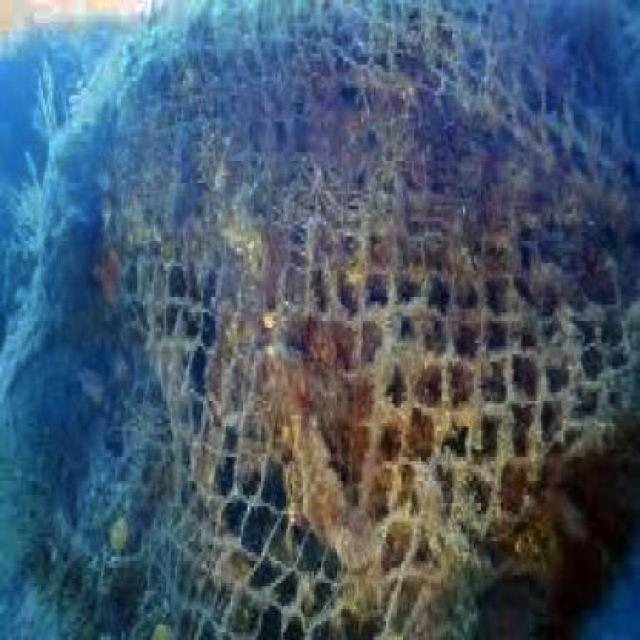net: (83, 11, 628, 640)
